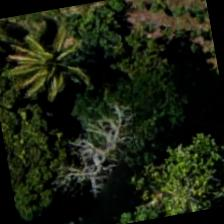Kelapa_Sawit: (0, 25, 81, 129)
